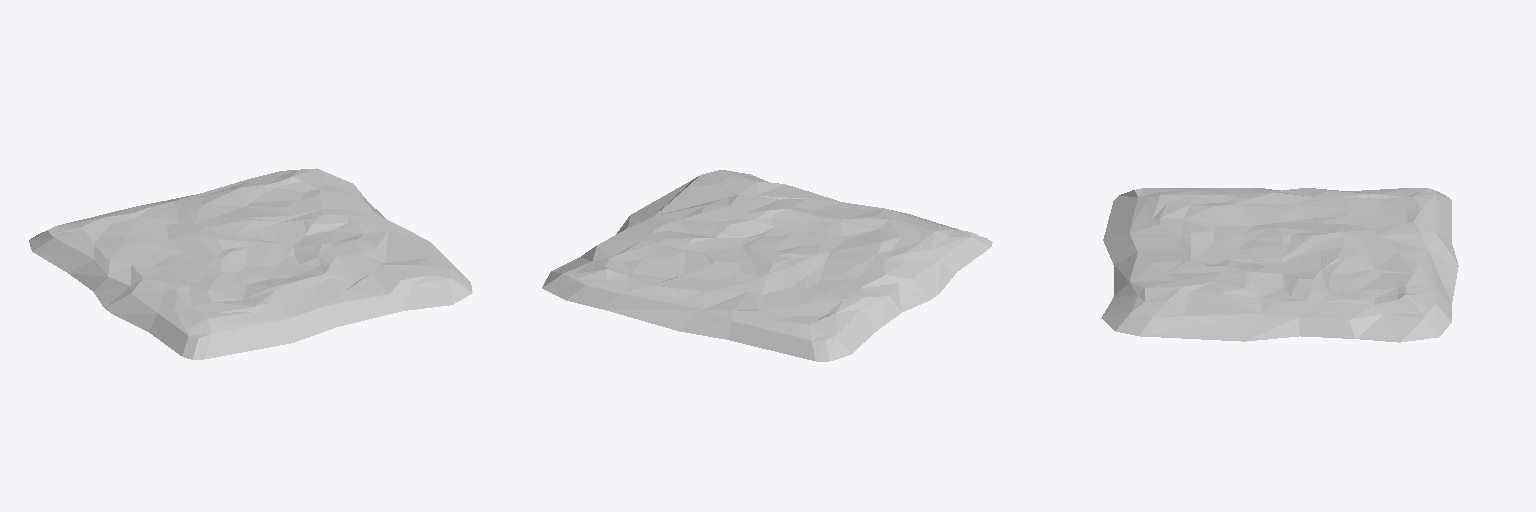
File: SM_Env_Dirt_Skirt_01.obj
3 renders of one model, left to right at view 1: azimuth 30°, elevation 25°; view 2: azimuth 150°, elevation 25°; view 3: azimuth 270°, elevation 25°, orthographic.
Parts seen in each view (by area): view 1: SM_Env_Dirt_Skirt_01; view 2: SM_Env_Dirt_Skirt_01; view 3: SM_Env_Dirt_Skirt_01.
Boxes of the visible parts, x1=… form: SM_Env_Dirt_Skirt_01: x1=29, y1=168, x2=472, y2=359; SM_Env_Dirt_Skirt_01: x1=542, y1=170, x2=992, y2=361; SM_Env_Dirt_Skirt_01: x1=1101, y1=188, x2=1458, y2=342.
Bounding box in the file's own units: 5.92 × 0.3553 × 5.83.